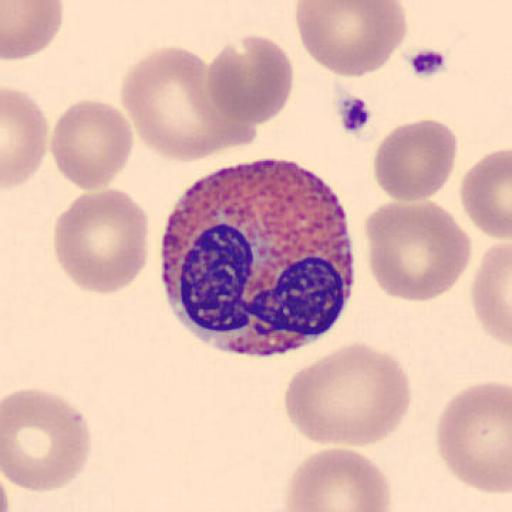Platelet: (410, 44, 448, 78)
RBC: (118, 44, 253, 164), (282, 340, 413, 448), (365, 198, 473, 303), (51, 187, 150, 295), (2, 386, 92, 493), (294, 0, 409, 79), (435, 379, 512, 495), (206, 33, 294, 128), (50, 98, 135, 193), (281, 445, 392, 512), (373, 118, 459, 202), (459, 145, 512, 243), (2, 85, 48, 191), (471, 238, 512, 348), (1, 0, 64, 61)
WBC: (160, 156, 356, 357)
